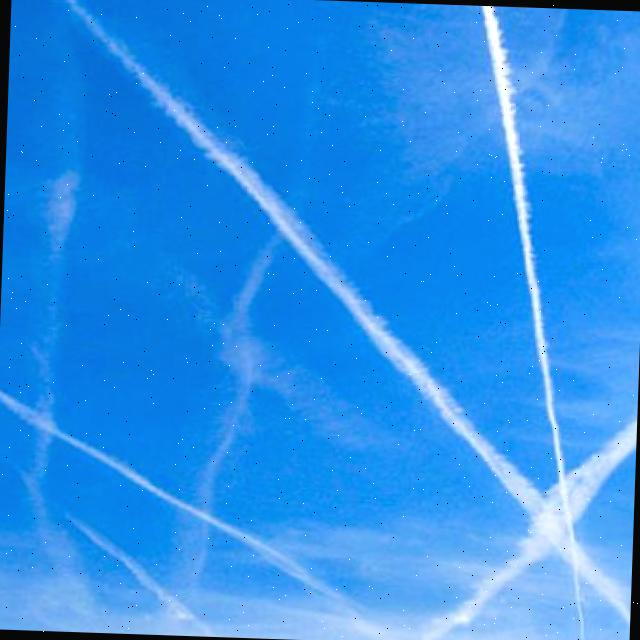Ct: (1, 1, 640, 614)
